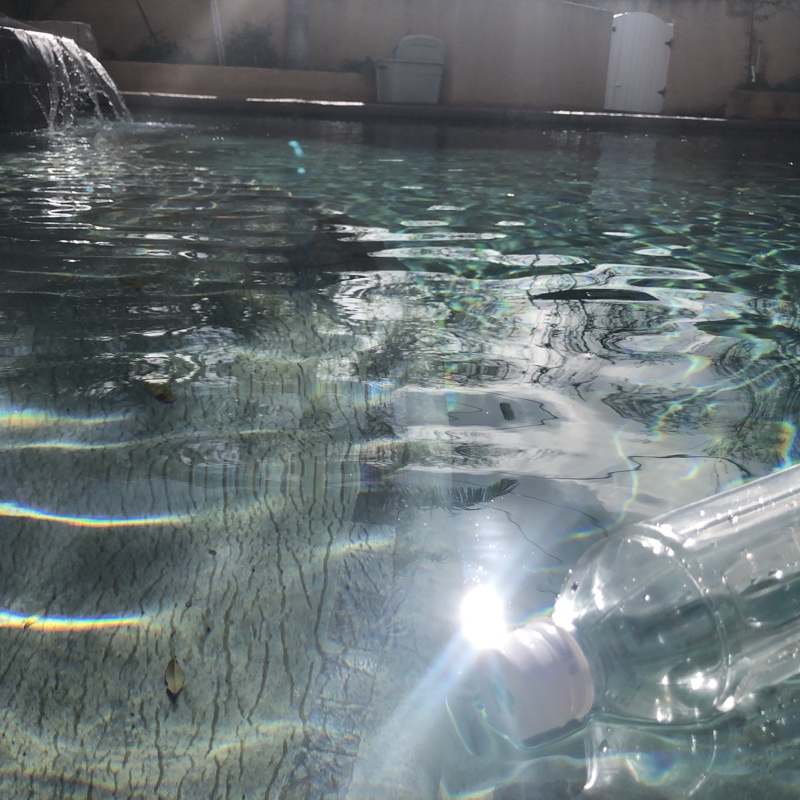Plastic Bottle: (466, 426, 800, 762)
